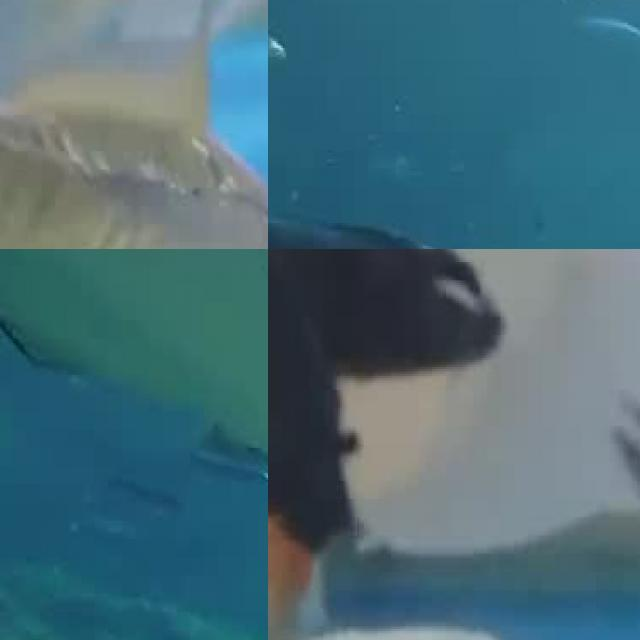fish: (0, 0, 268, 249)
